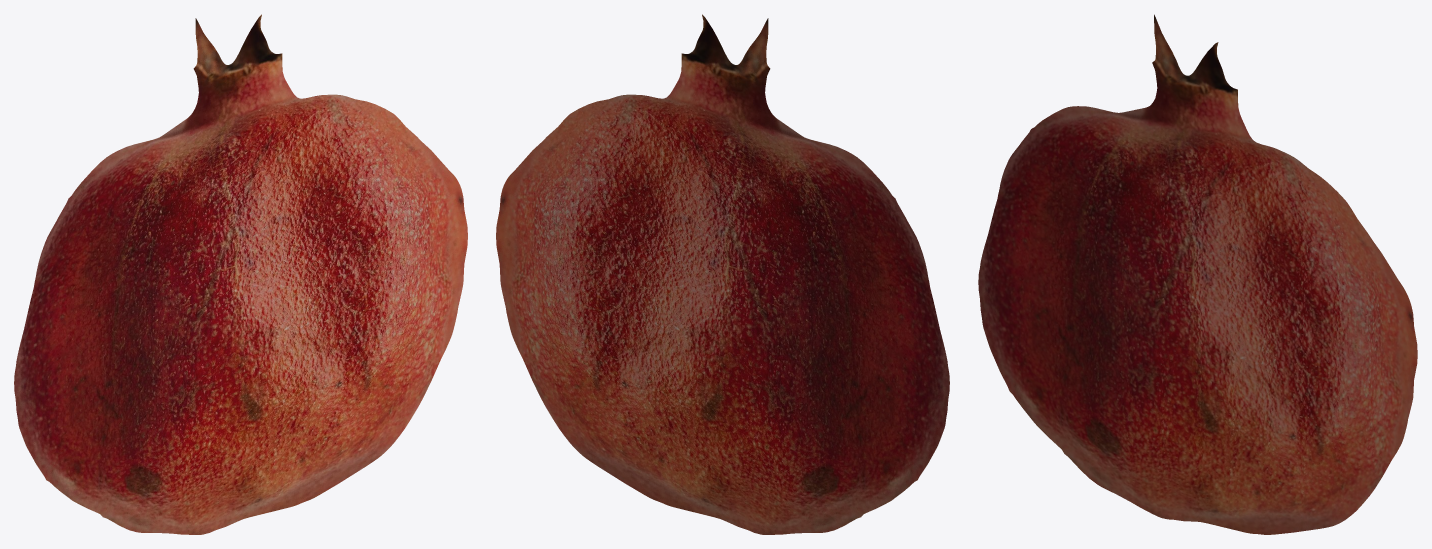
File: testglb.glb
3 views of the same model, side by side, from view 1: azimuth 30°, elevation 25°; view 2: azimuth 150°, elevation 25°; view 3: azimuth 330°, elevation 25° (orthographic). The views are drawn at different scales.
Visible parts, largest first — view 1: BYRST-0000; view 2: BYRST-0000; view 3: BYRST-0000.
Boxes of the visible parts, box(x1,y1,x2,y2) form: BYRST-0000: box(14, 14, 467, 534); BYRST-0000: box(496, 14, 949, 534); BYRST-0000: box(978, 14, 1417, 534).
Bounding box in the file's own units: 1.13 × 1.23 × 0.
Materials: 1 (1 with a texture image).
